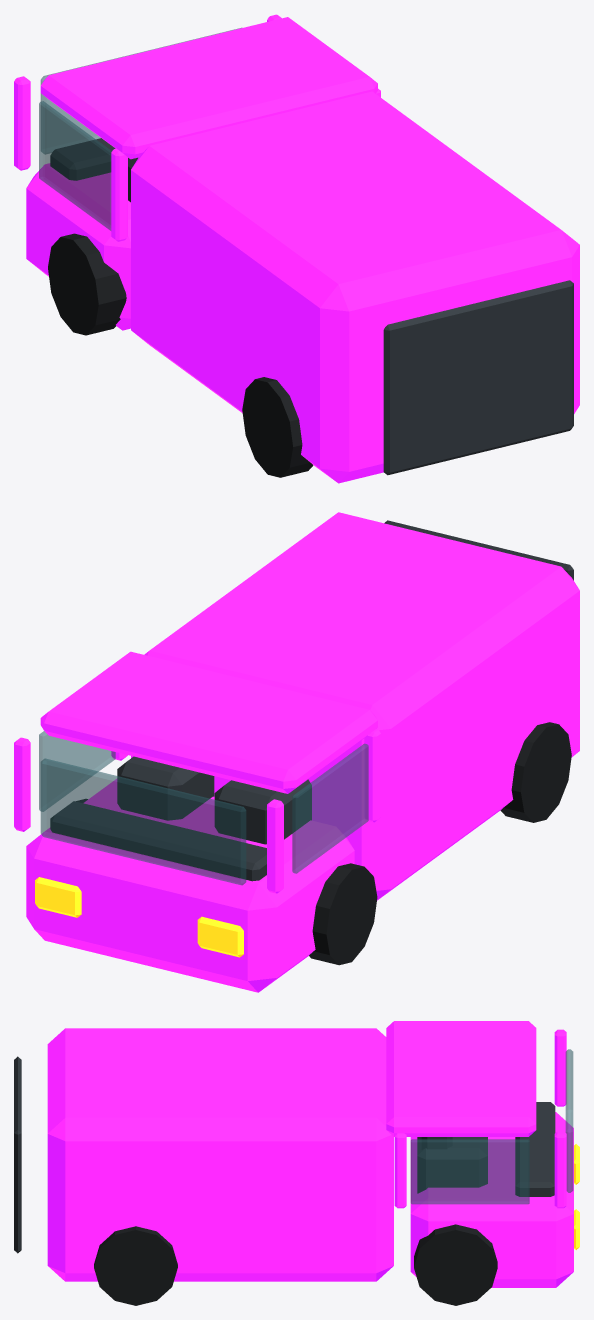
Rendered from mystery_van.glb.
3 renders of one model, top to bottom at view 1: azimuth 30°, elevation 25°; view 2: azimuth 150°, elevation 25°; view 3: azimuth 270°, elevation 25°, orthographic. The views are drawn at different scales.
Parts seen in each view (by area): view 1: VanBody, MysteryCargoDoor, VanRoof, VanNose, VanSideWindow, Wheel, Wheel.001, Windshield, VanDashboard, VanPillar, VanPillar.001; view 2: VanBody, VanNose, VanRoof, Windshield, VanDashboard, VanSideWindow, Wheel, Wheel.001, VanEmptySeat.001, VanEmptySeat, VanSideWindow.001, VanPillar (+5 smaller); view 3: VanBody, VanRoof, VanNose, VanSideWindow.001, Wheel.002, Wheel.003, VanEmptySeat.001, VanDashboard, MysteryCargoDoor, Windshield, VanPillar.002, VanPillar (+1 smaller).
Part boxes in pixels (box(x1,y1,x2,y2)): VanBody: box(131, 91, 579, 483); MysteryCargoDoor: box(383, 280, 573, 475); VanRoof: box(40, 17, 377, 159); VanNose: box(26, 163, 130, 330); VanSideWindow: box(39, 101, 111, 230); Wheel: box(48, 233, 126, 335); Wheel.001: box(242, 377, 313, 477); Windshield: box(40, 27, 241, 154); VanDashboard: box(50, 138, 115, 180); VanPillar: box(14, 76, 30, 170); VanPillar.001: box(111, 148, 127, 241); VanBody: box(131, 512, 579, 900); VanNose: box(26, 779, 354, 992); VanRoof: box(40, 651, 377, 793); Windshield: box(40, 758, 246, 885); VanDashboard: box(50, 801, 266, 881); VanSideWindow: box(292, 743, 368, 873); Wheel: box(309, 863, 377, 965); Wheel.001: box(500, 722, 571, 822); VanEmptySeat.001: box(117, 756, 214, 820); VanEmptySeat: box(214, 779, 311, 844); VanSideWindow.001: box(39, 731, 115, 811); VanPillar: box(267, 799, 283, 893); VanBody: box(47, 1028, 393, 1281); VanRoof: box(386, 1021, 536, 1136); VanNose: box(410, 1112, 573, 1287); VanSideWindow.001: box(410, 1139, 529, 1204); Wheel.002: box(414, 1224, 497, 1305); Wheel.003: box(94, 1226, 177, 1305); VanEmptySeat.001: box(417, 1137, 487, 1193); VanDashboard: box(515, 1102, 555, 1196); MysteryCargoDoor: box(14, 1056, 21, 1253); Windshield: box(565, 1049, 573, 1192); VanPillar.002: box(554, 1131, 566, 1208); VanPillar: box(554, 1029, 566, 1106).
Size of the model in its own units: 2.4 by 1.81 by 5.13.
